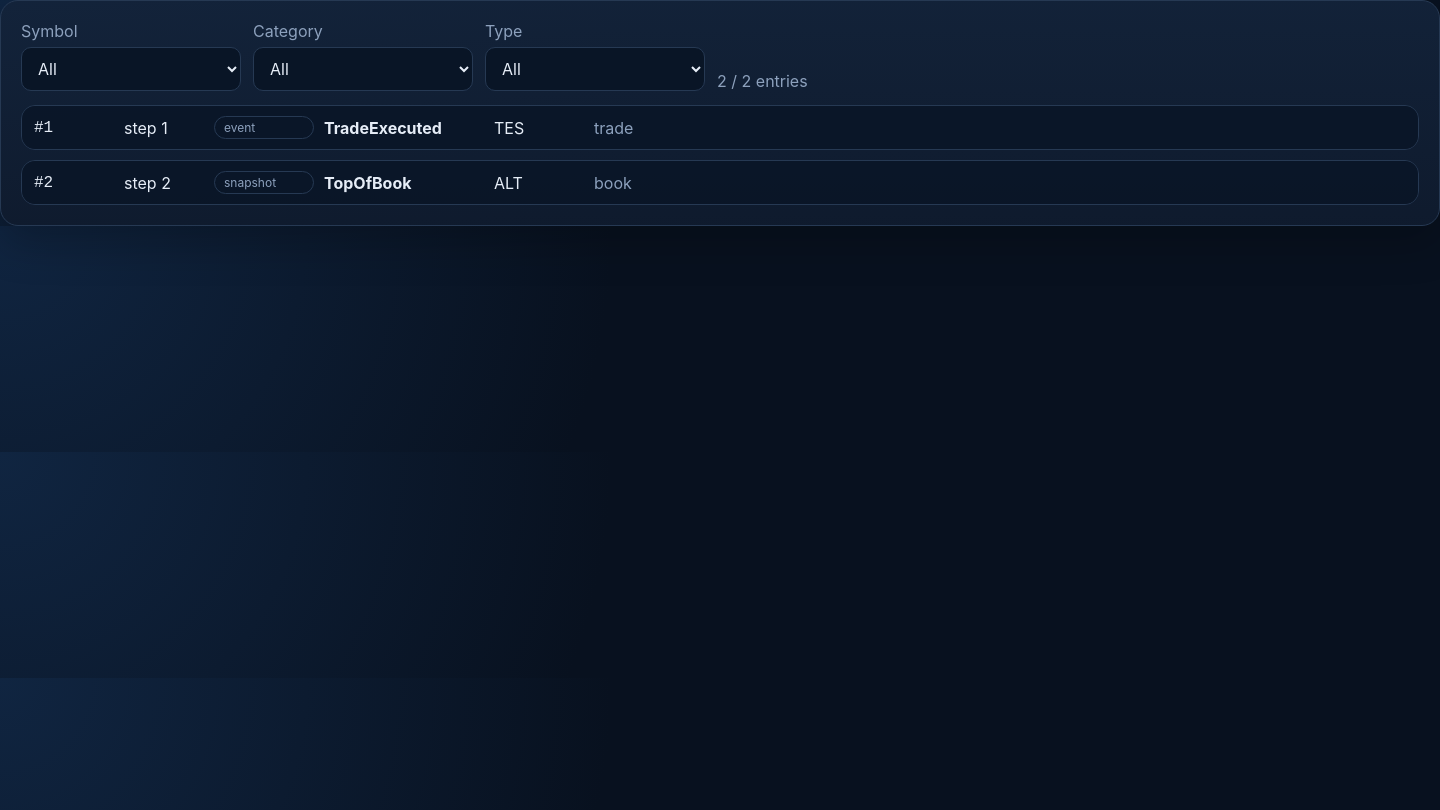
Test: TimelineViewer › renders and filters timeline entries
Expected: the text "trade" is shown, top-left (594, 118), bottom-right (633, 138)
Select "ALT" in the dropdown labelled "Symbol" at x=131, y=69, box top-left (21, 47), bottom-right (241, 91)
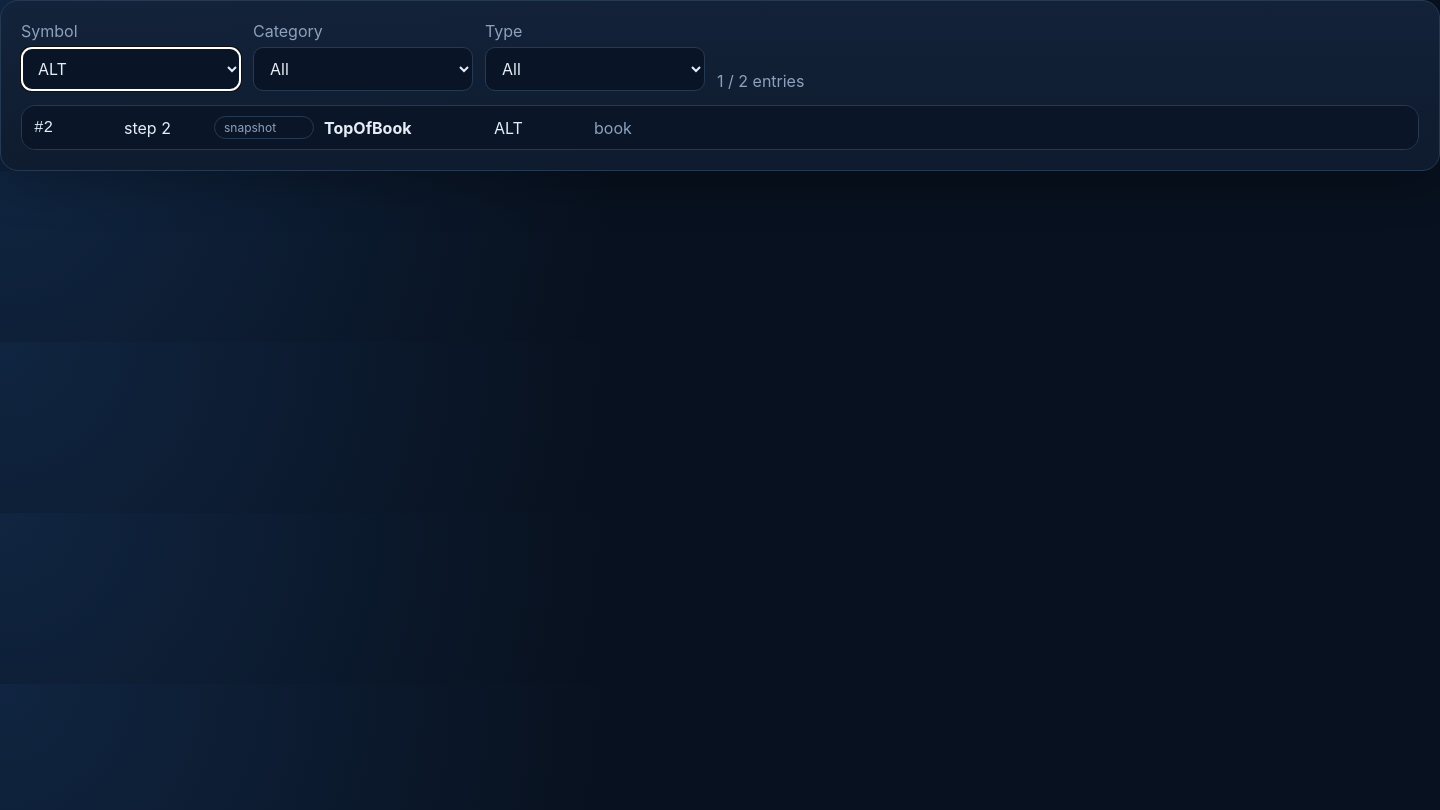
Expected: the text "book" is shown, top-left (594, 118), bottom-right (632, 138)
Expected: the button "Trade" is gone
